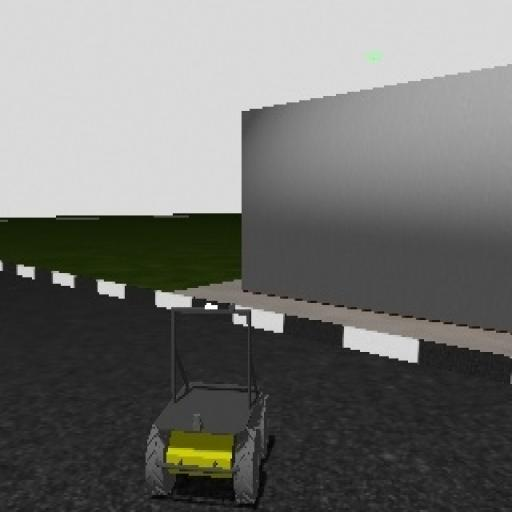huskya200: (152, 303, 261, 509)
